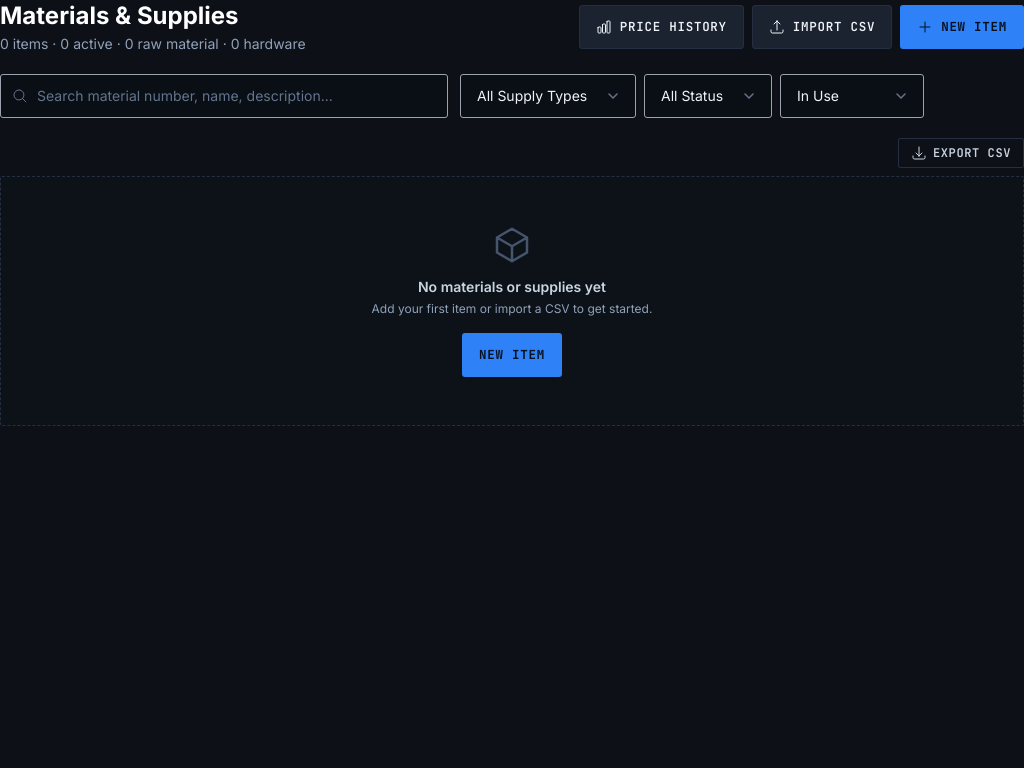
Test case: Materials form — unsaved-changes discard guard › does NOT prompt when closing a clean (untouched) form
The width and height of the screenshot is (1024, 768).
Click the button "New Item" in the row of "Price history" at point(962, 27), box [900,5,1023,49]
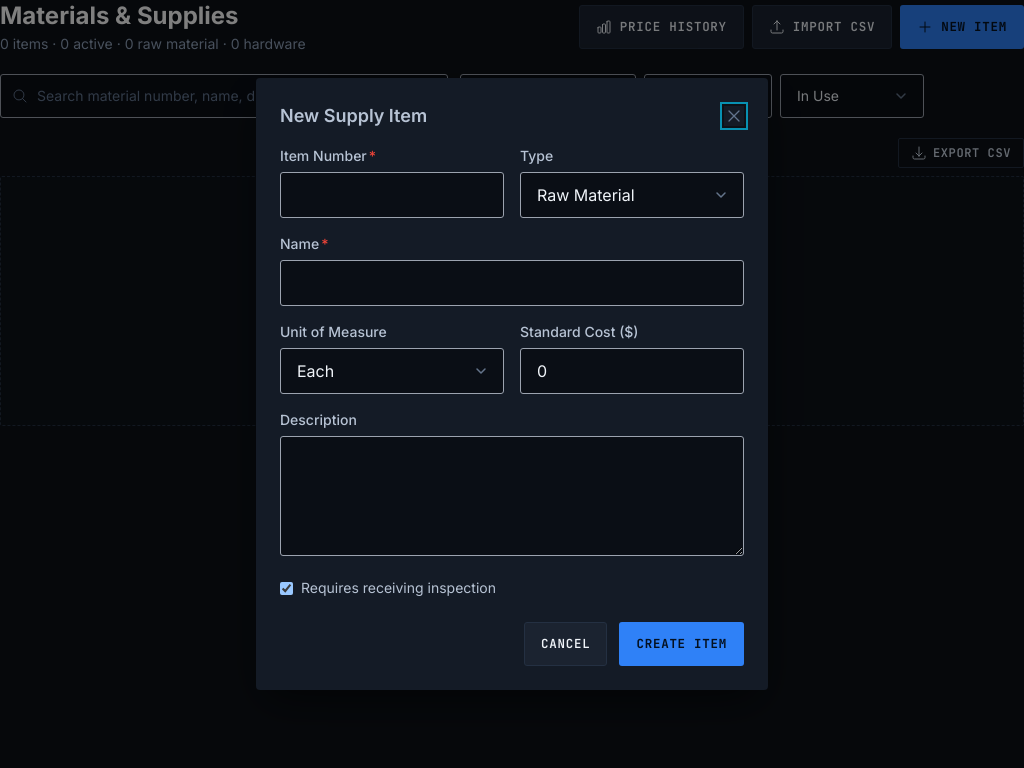
Click the button "Cancel" at point(566, 644), box [524,622,608,666]
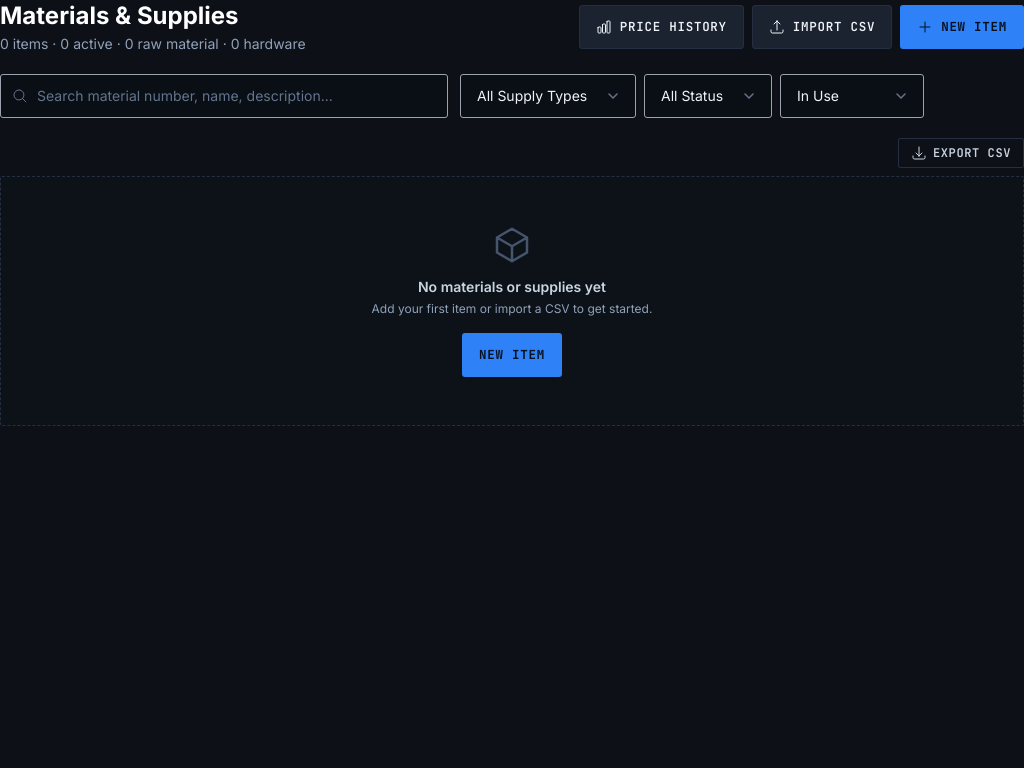
Expected: the label labelled "Item Number" is gone
